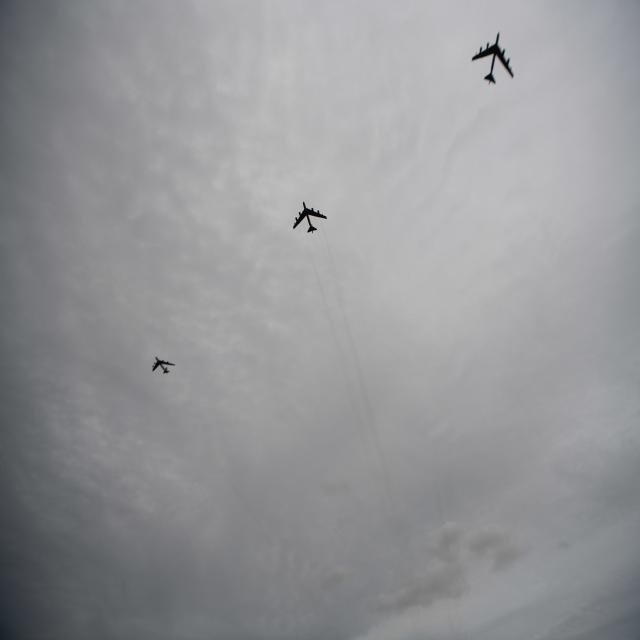MIL_Plane: (471, 30, 514, 86), (99, 201, 133, 234), (151, 356, 176, 374)
